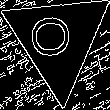O_E: (33, 16, 82, 64)
